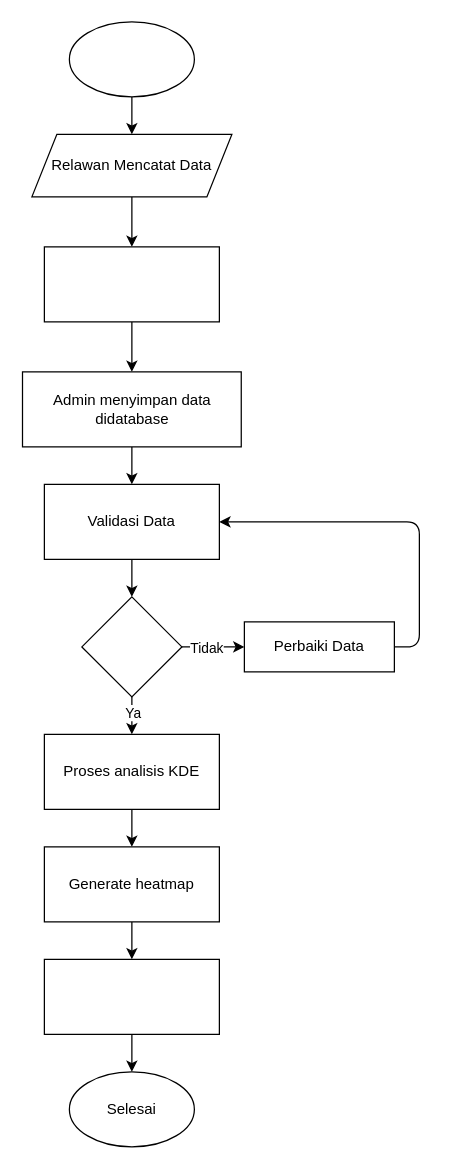
Image size: 451x1169. Some labels were removed from this diagram. The box of each missing label's shape, as (x1, y1, x2, y2) in pixels:
Data dikirim ke Admin: (43, 246, 219, 322)
Data Valid?: (81, 596, 182, 697)
Mulai: (68, 21, 194, 97)
Tampilkan pada peta: (43, 958, 219, 1034)
